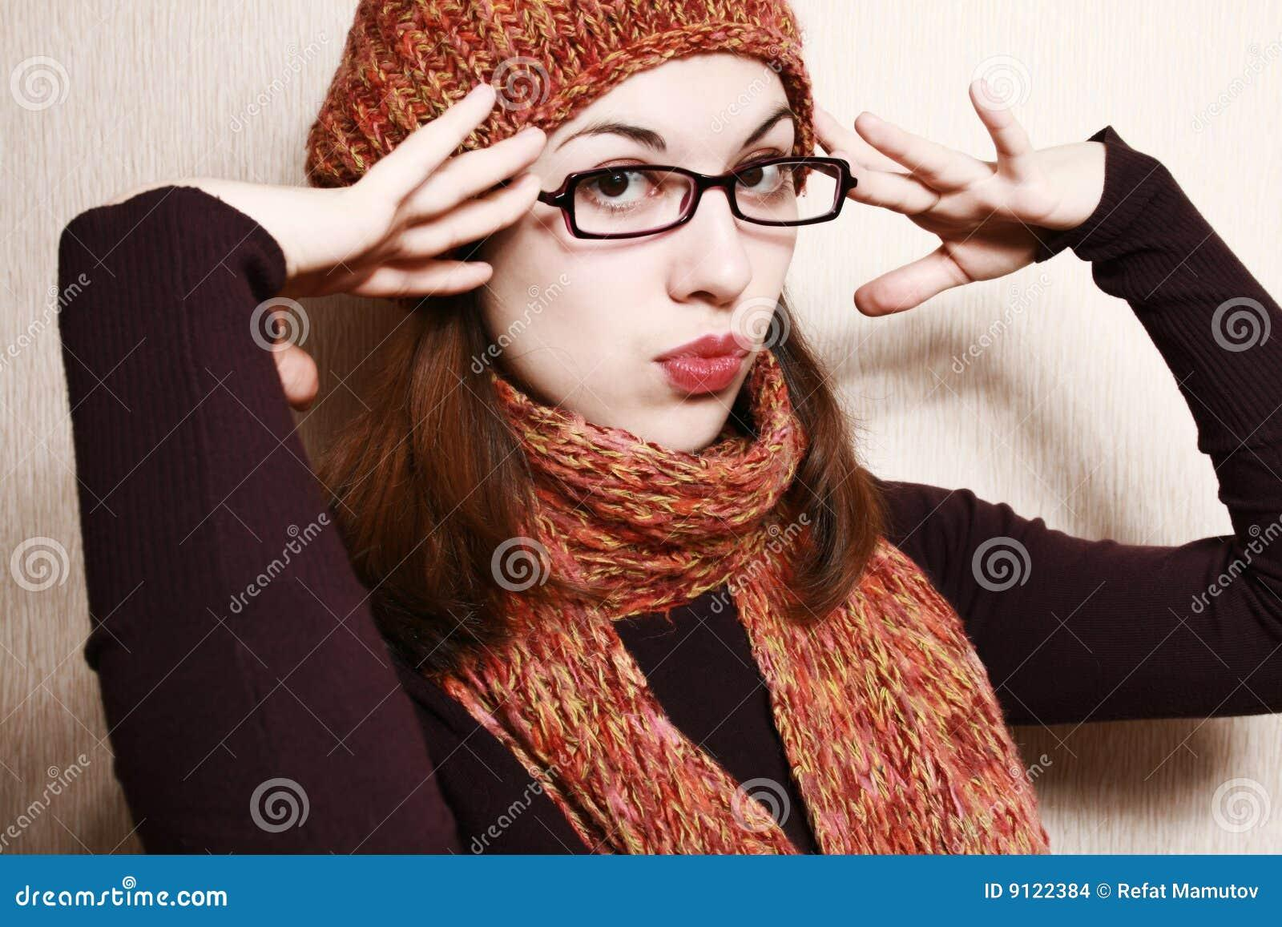cap: (296, 10, 956, 171)
sunglasses: (518, 115, 876, 243)
